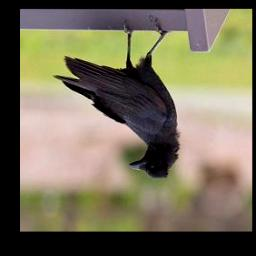Crow: (52, 20, 182, 180)
